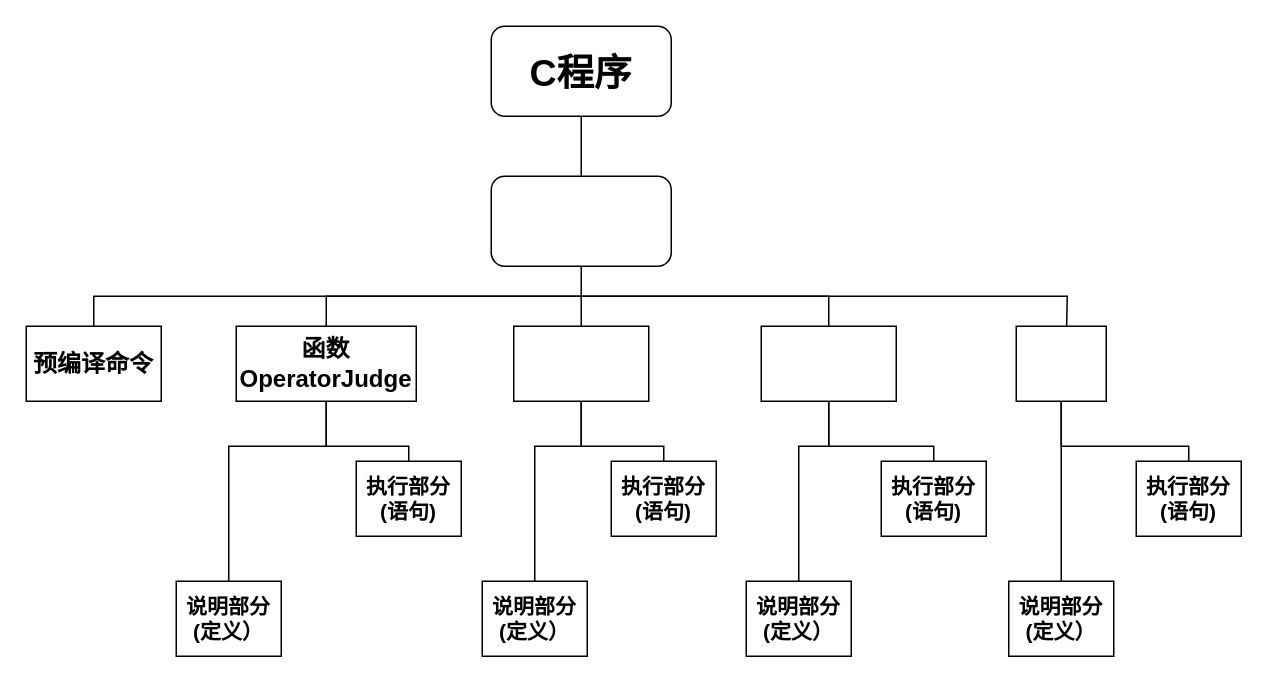
Some shapes in this 1269 by 683 pixel diagram are drawn without their labels. Each missing label, with the centre of its shape:
主函数 main: point (1060, 363)
函数 CountChar: point (580, 363)
函数 CountWord: point (828, 363)
源程序文件WordCount: point (580, 220)
